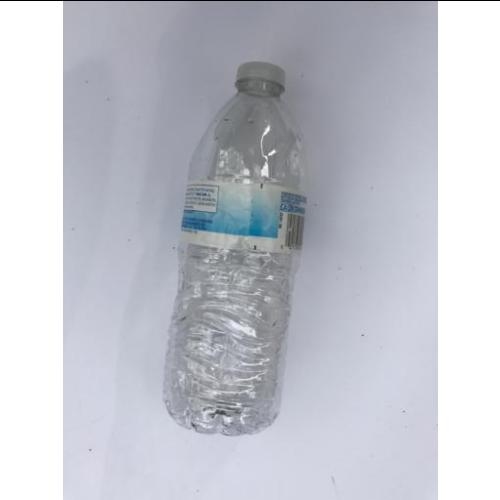plastic: (162, 63, 309, 435)
